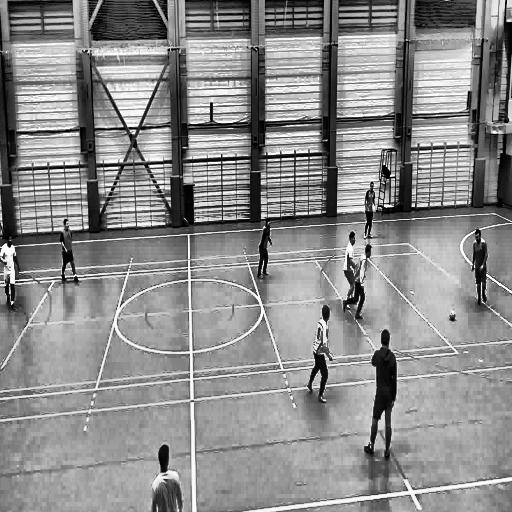ball: (449, 306, 457, 324)
player: (364, 330, 398, 465), (308, 304, 334, 407), (150, 440, 182, 512), (343, 244, 372, 322), (0, 231, 21, 312), (471, 228, 489, 309), (59, 218, 79, 287), (343, 229, 357, 312), (257, 217, 273, 282), (363, 179, 378, 241)
